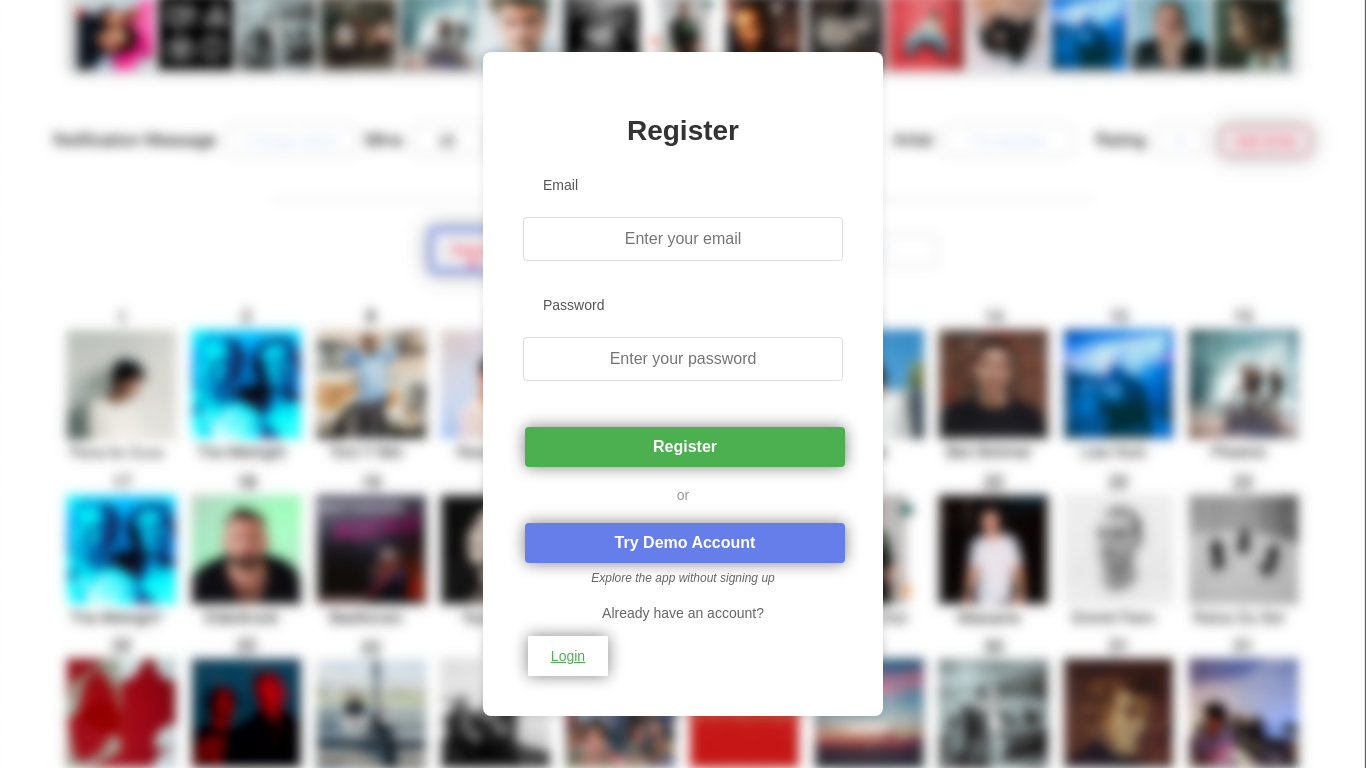
Test: Auth › requires both fields
In the field with placeholder "Enter your email": (683, 239) x1=523 y1=217 x2=843 y2=261, type "a@b.com"
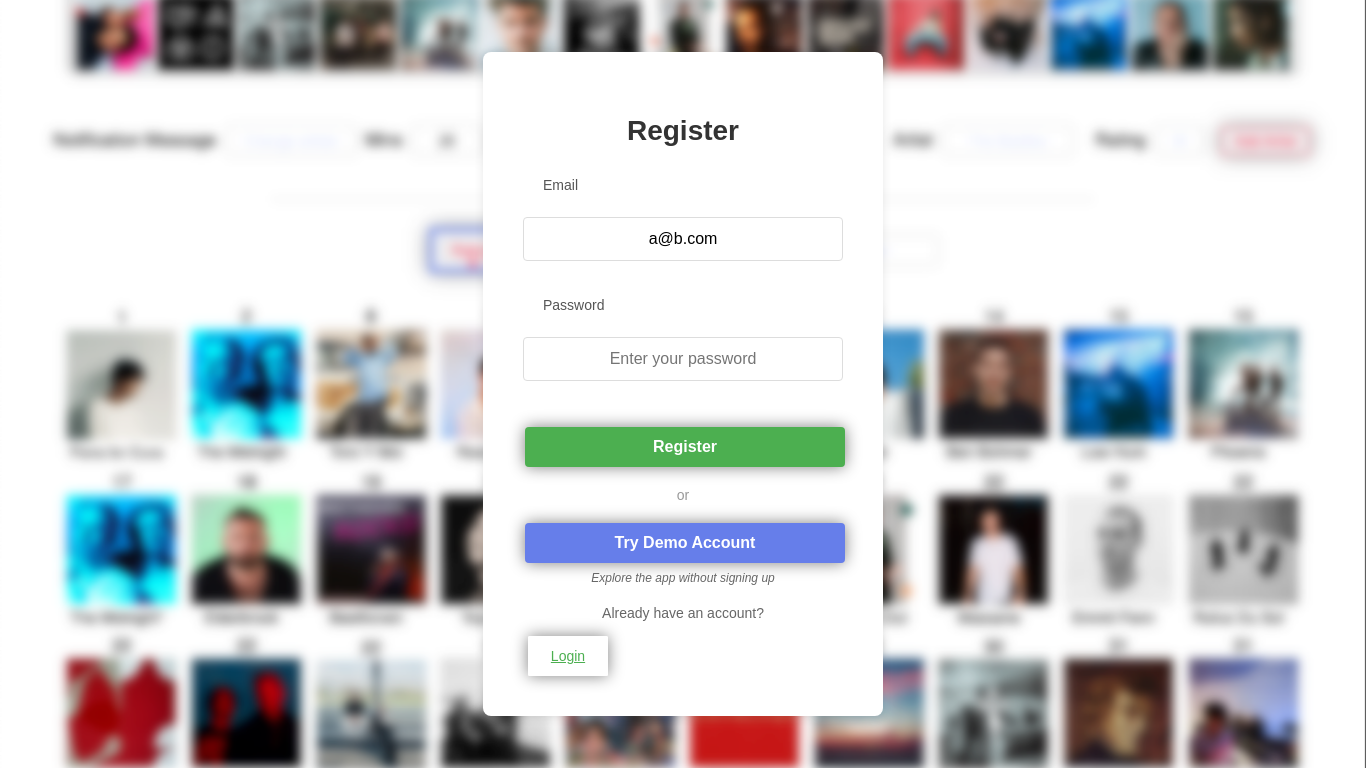
Submit the form with placeholder "Enter your email", box x1=523 y1=177 x2=843 y2=467
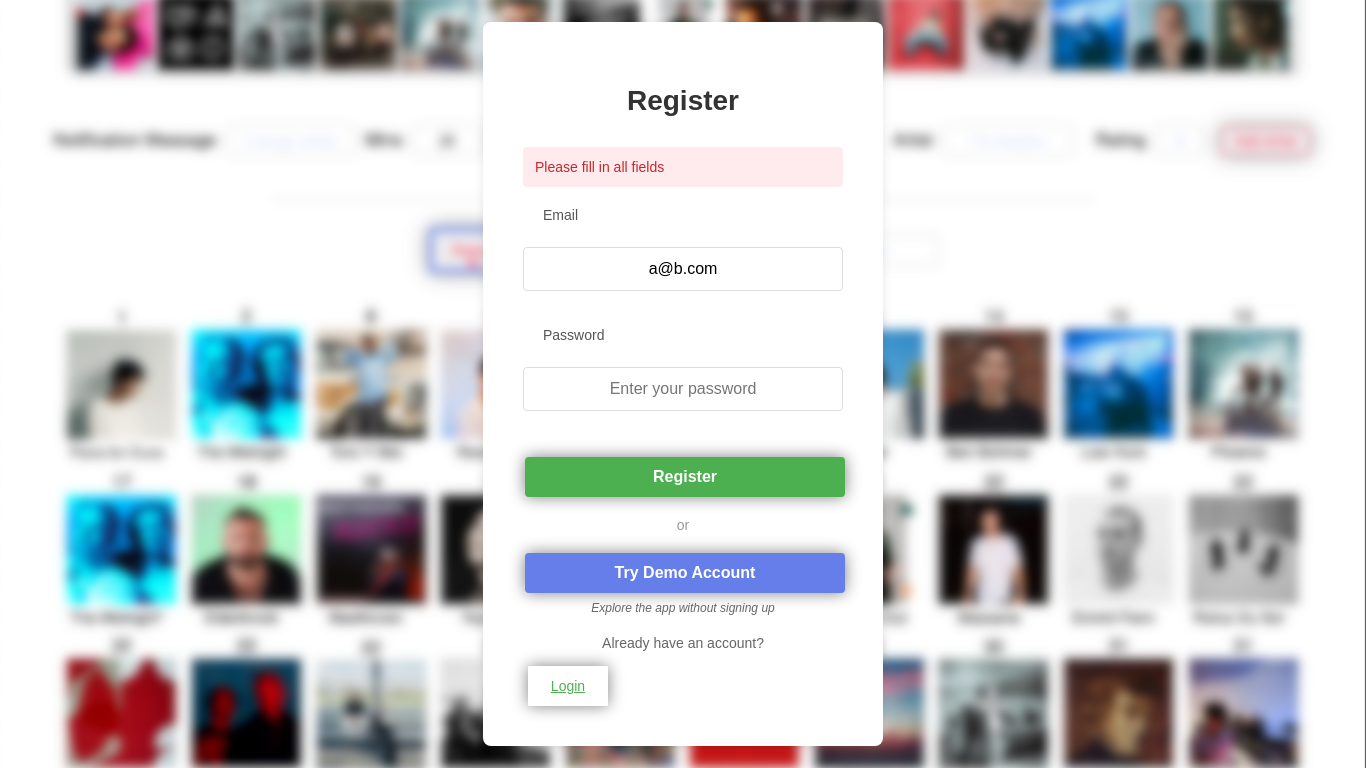
expect the text "Please fill in all fields" is shown: met, box x1=523 y1=147 x2=843 y2=187
